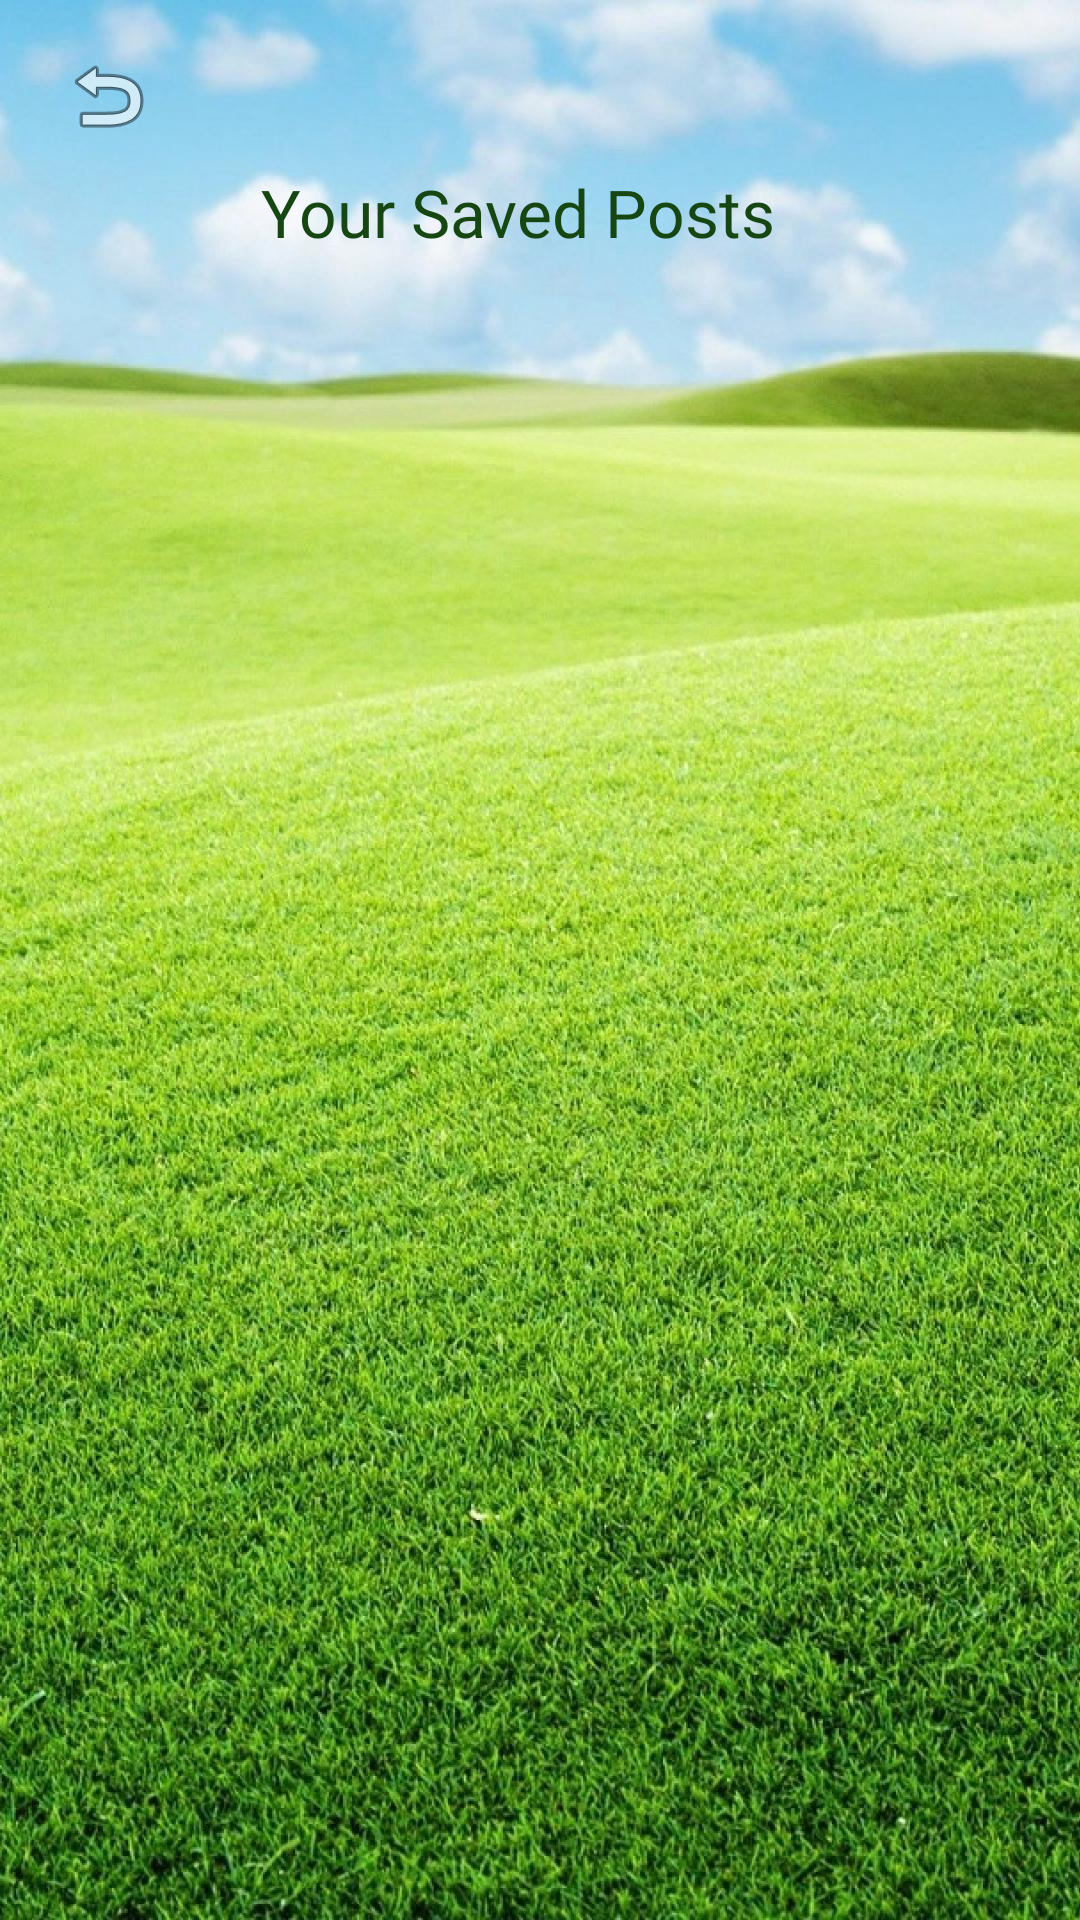

Named icons in this screenshot (1080*1920) and their centers, [x,y]:
revert: [109,96]
